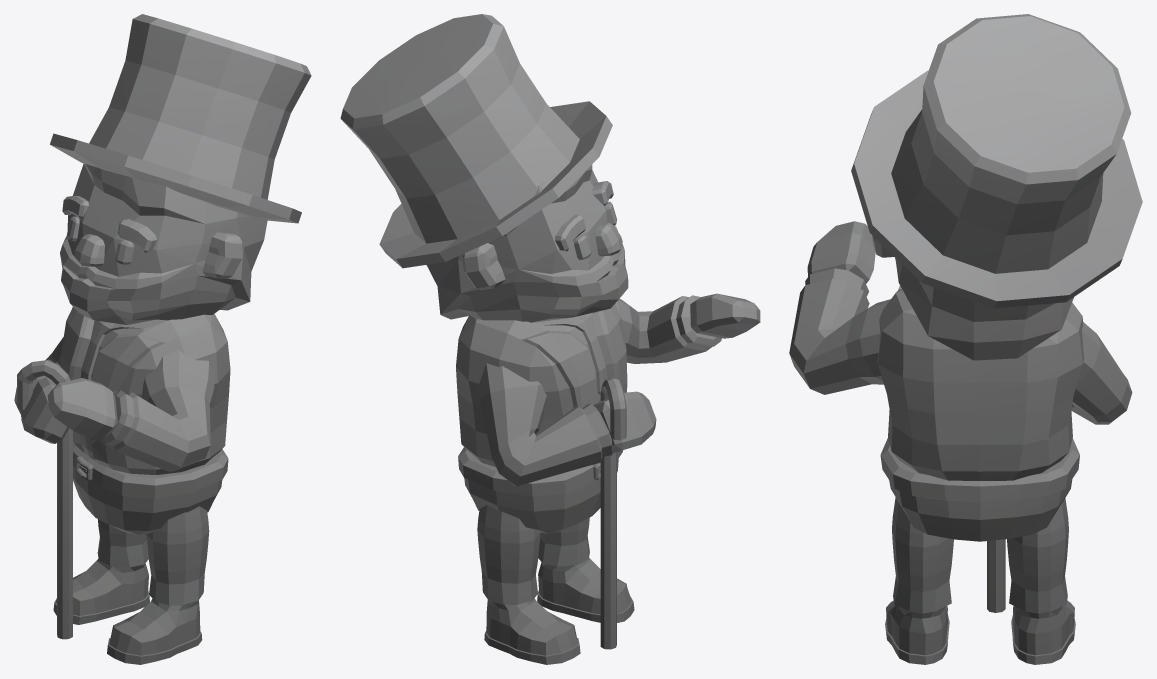
File: Mayor_Statue_B.glb
The picture shows the model from 3 angles, left to right: view 1: azimuth 30°, elevation 25°; view 2: azimuth 150°, elevation 25°; view 3: azimuth 270°, elevation 25°; orthographic projection. The views are drawn at different scales.
Visible parts, largest first — view 1: Mayor_Statue_B; view 2: Mayor_Statue_B; view 3: Mayor_Statue_B.
Boxes of the visible parts, left/top/right/bottom form: Mayor_Statue_B: left=14, top=14, right=311, bottom=664; Mayor_Statue_B: left=340, top=14, right=760, bottom=664; Mayor_Statue_B: left=789, top=14, right=1142, bottom=664.
Bounding box in the file's own units: 6.74 × 11.57 × 5.66.
1 material, 1 textured.
